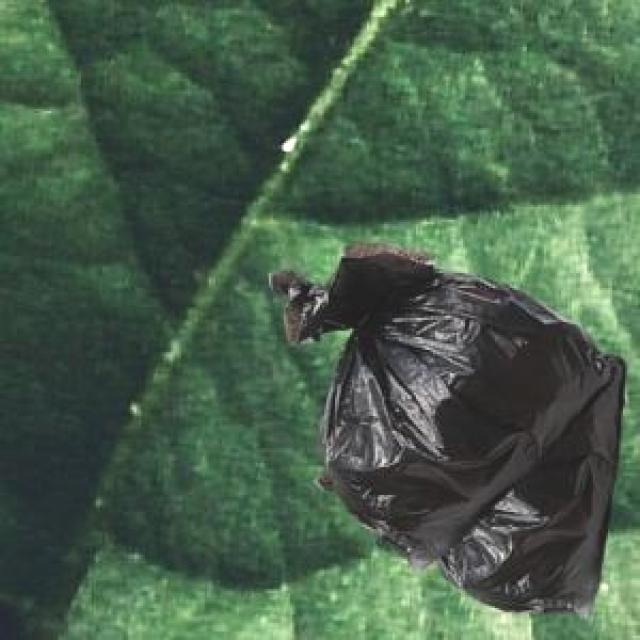Trashbag: (283, 245, 639, 617)
